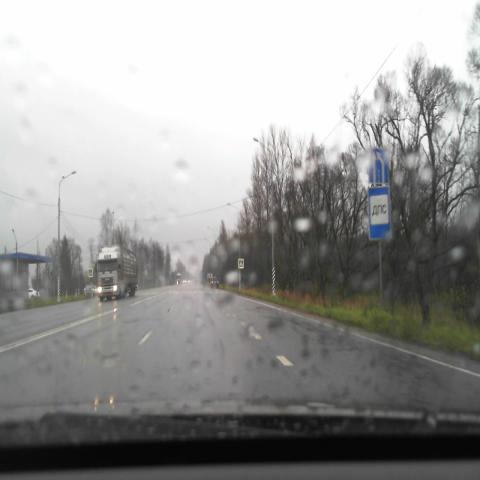7_12: (368, 185, 391, 241)
